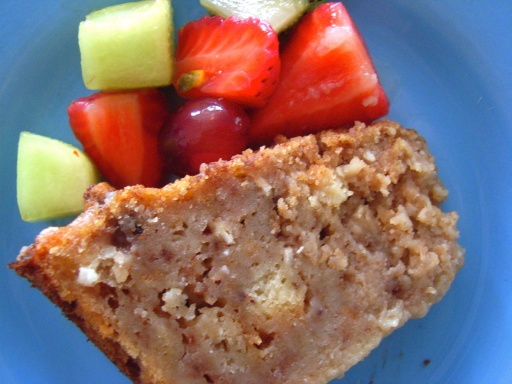background: (7, 0, 372, 230)
